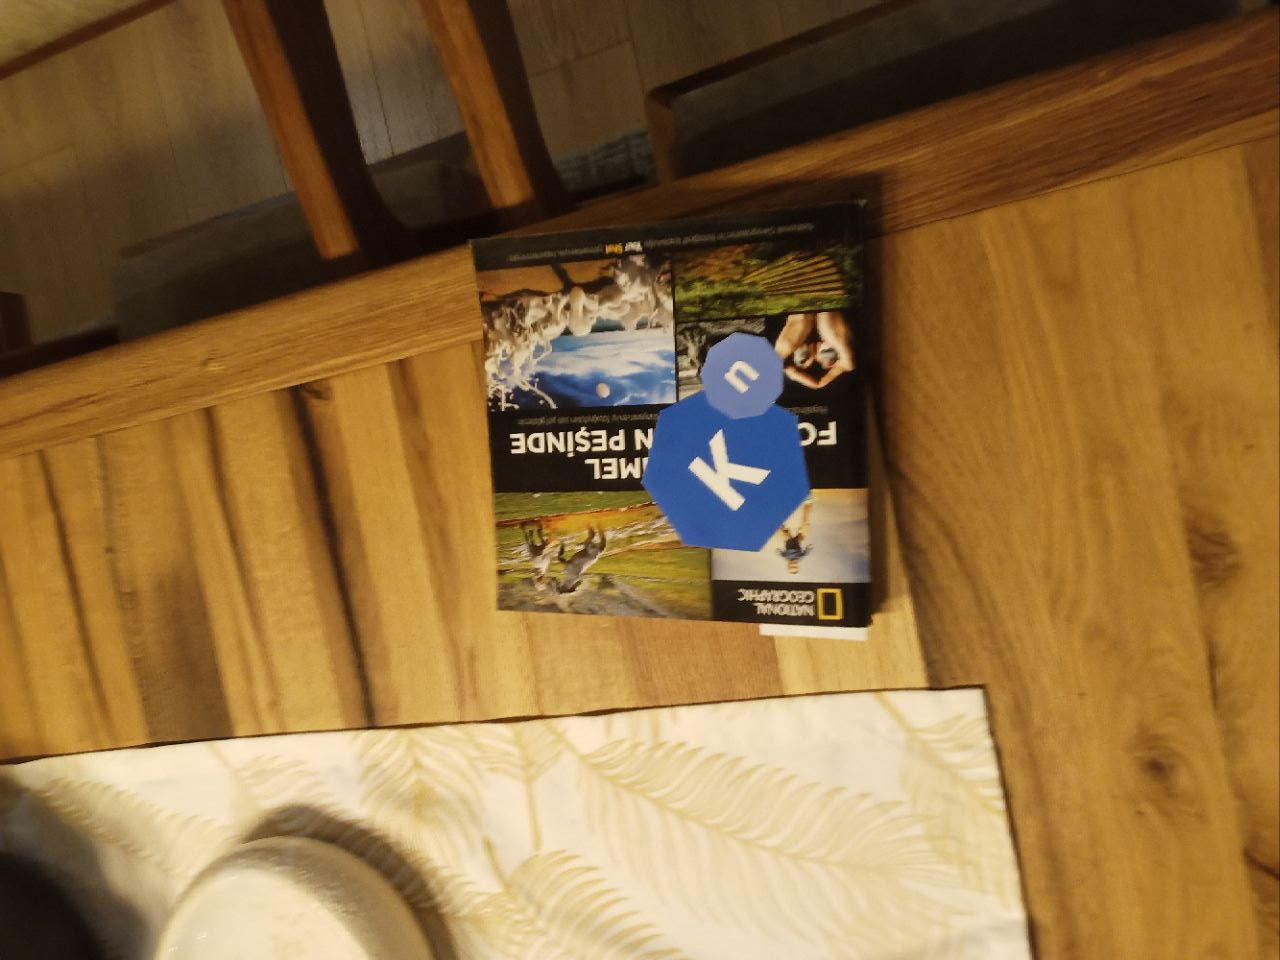knative: (639, 329, 814, 554)
